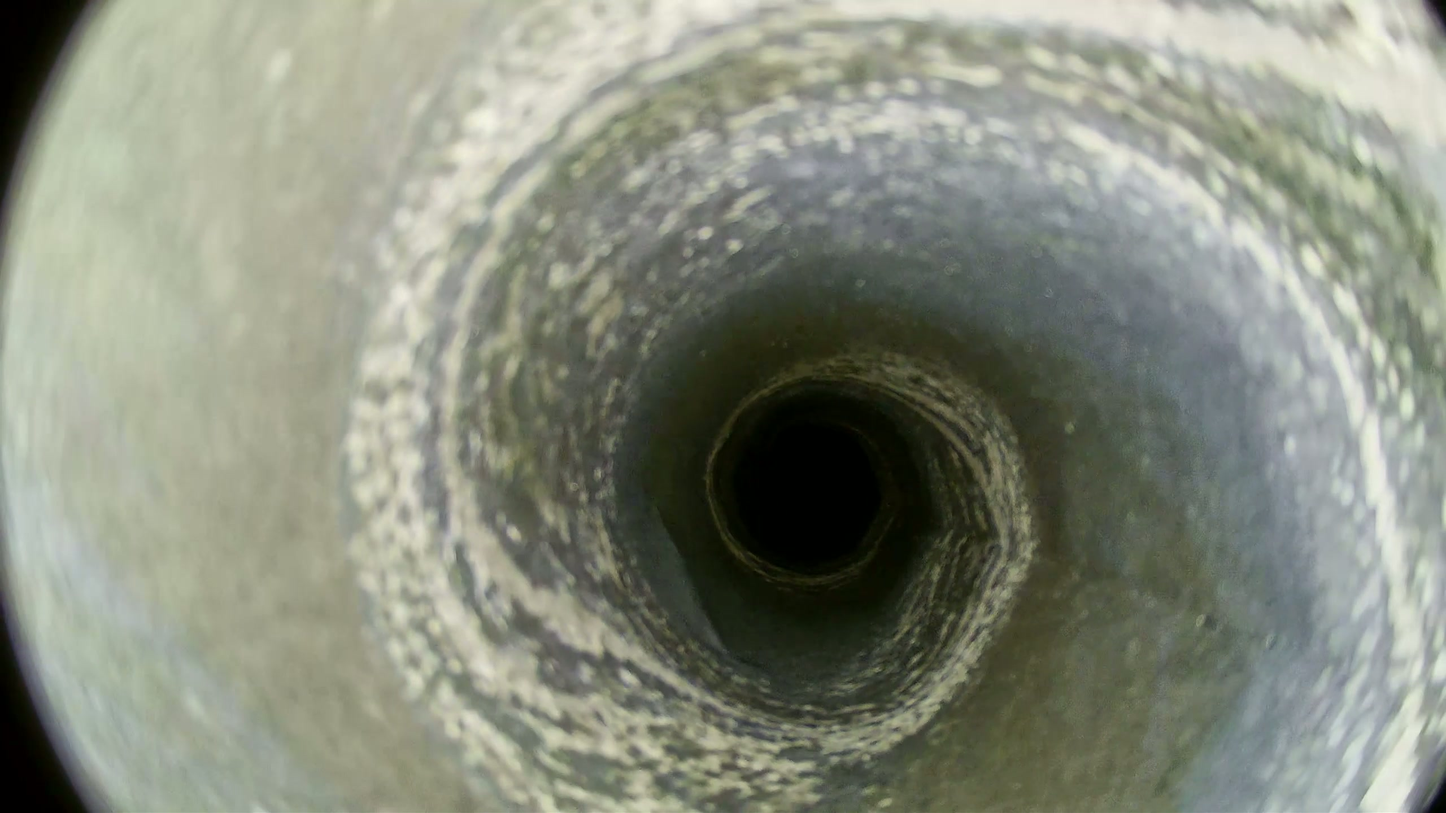hole: (745, 426, 878, 558)
